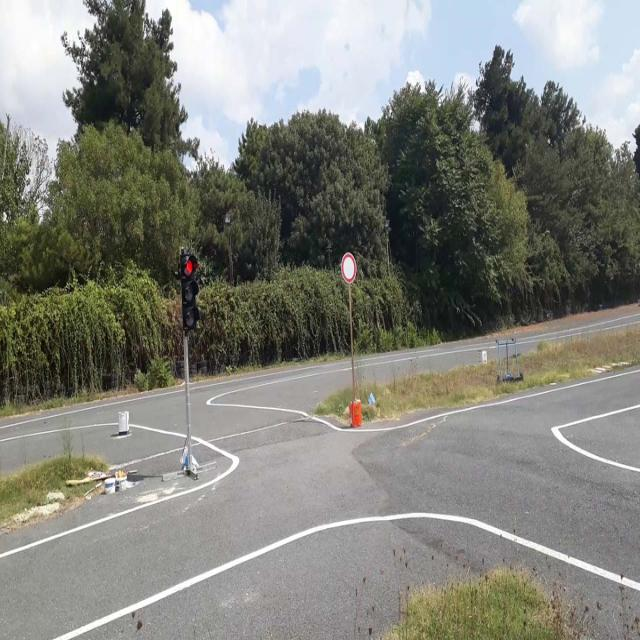kirmizi: (181, 256, 197, 328)
